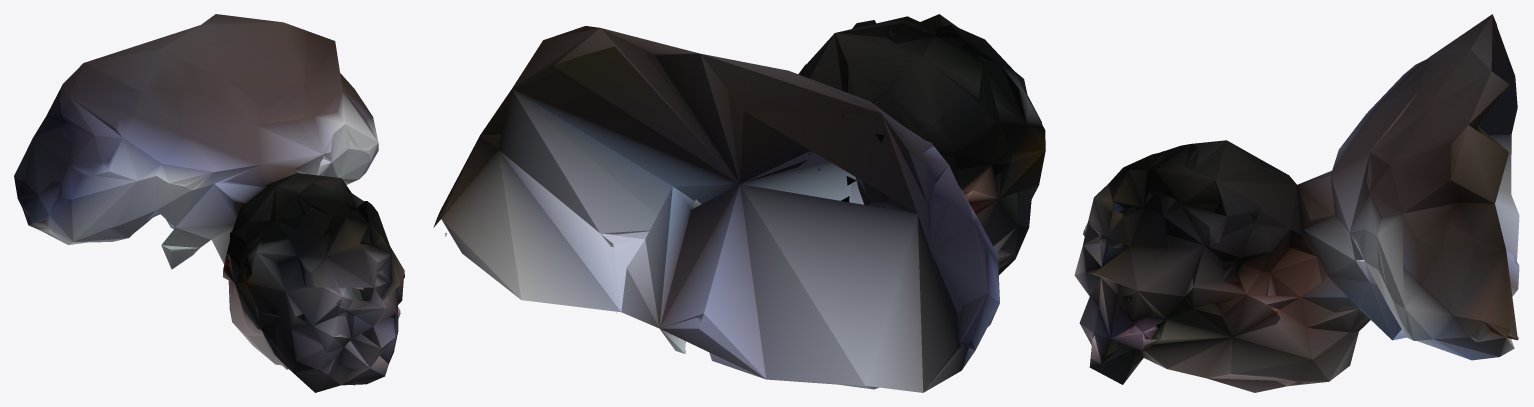
3 views of the same model, side by side, from view 1: azimuth 30°, elevation 25°; view 2: azimuth 150°, elevation 25°; view 3: azimuth 270°, elevation 25° (orthographic). The views are drawn at different scales.
Bounding box in the file's own units: 0.465 × 0.3564 × 0.4376.
